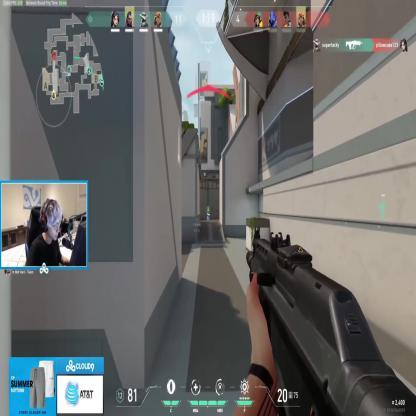enemy: (206, 206, 210, 220)
enemy_head: (207, 207, 209, 210)
